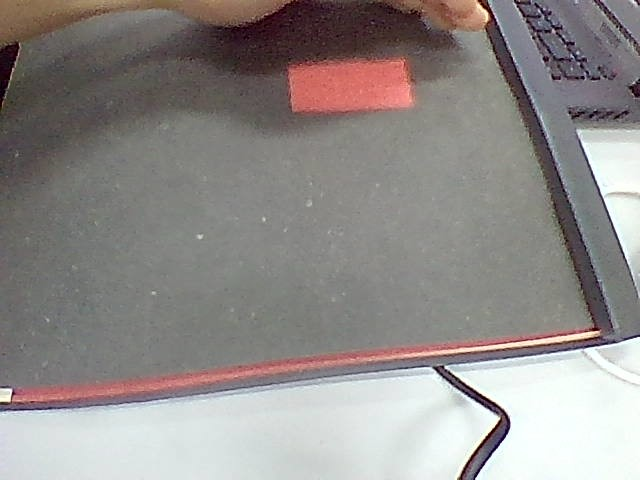card: (289, 58, 414, 112)
